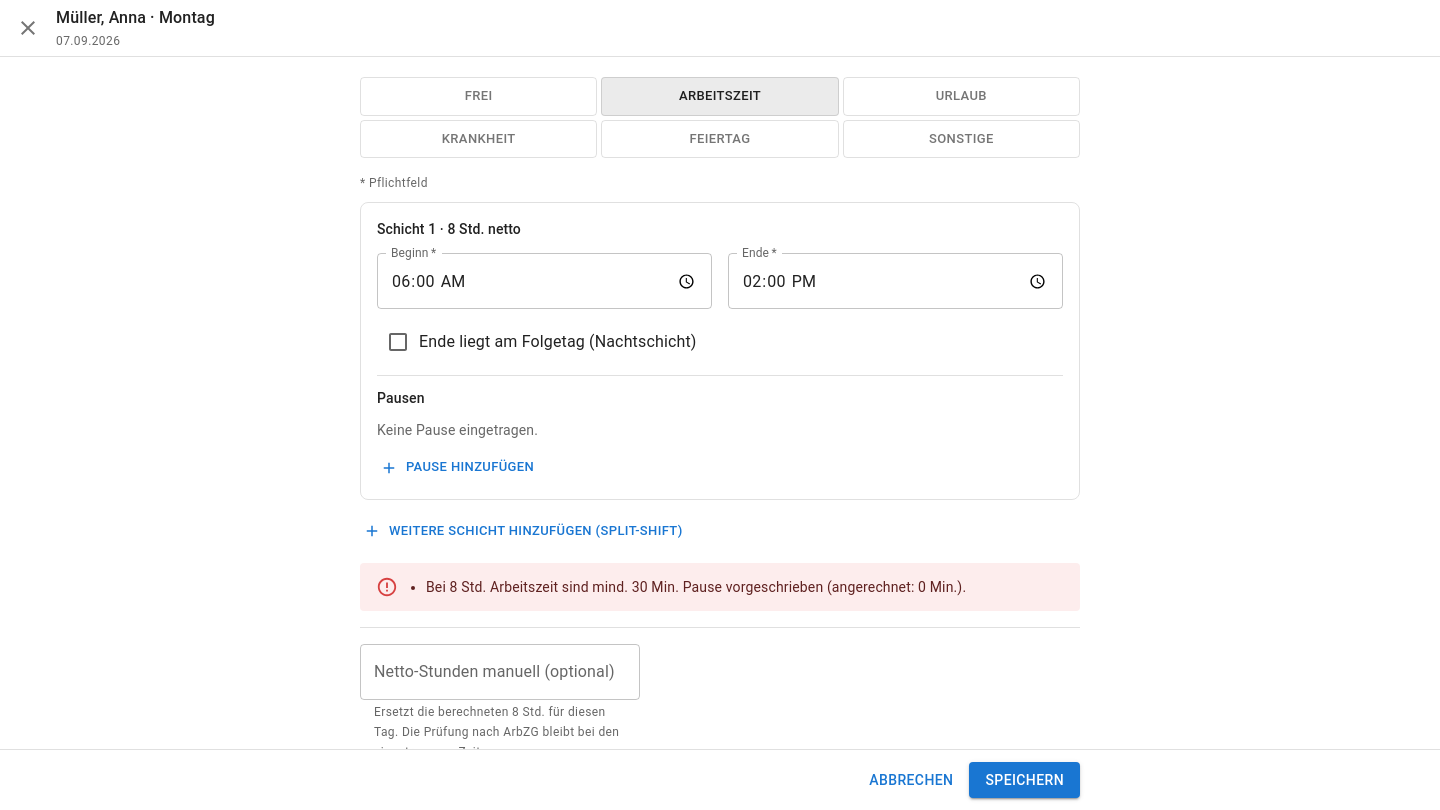
DayEditor › shows ArbZG errors while editing, before Speichern
Replace the text in the time field labelled "Ende *" with "22:00": [896, 281] box [728,253,1063,309]
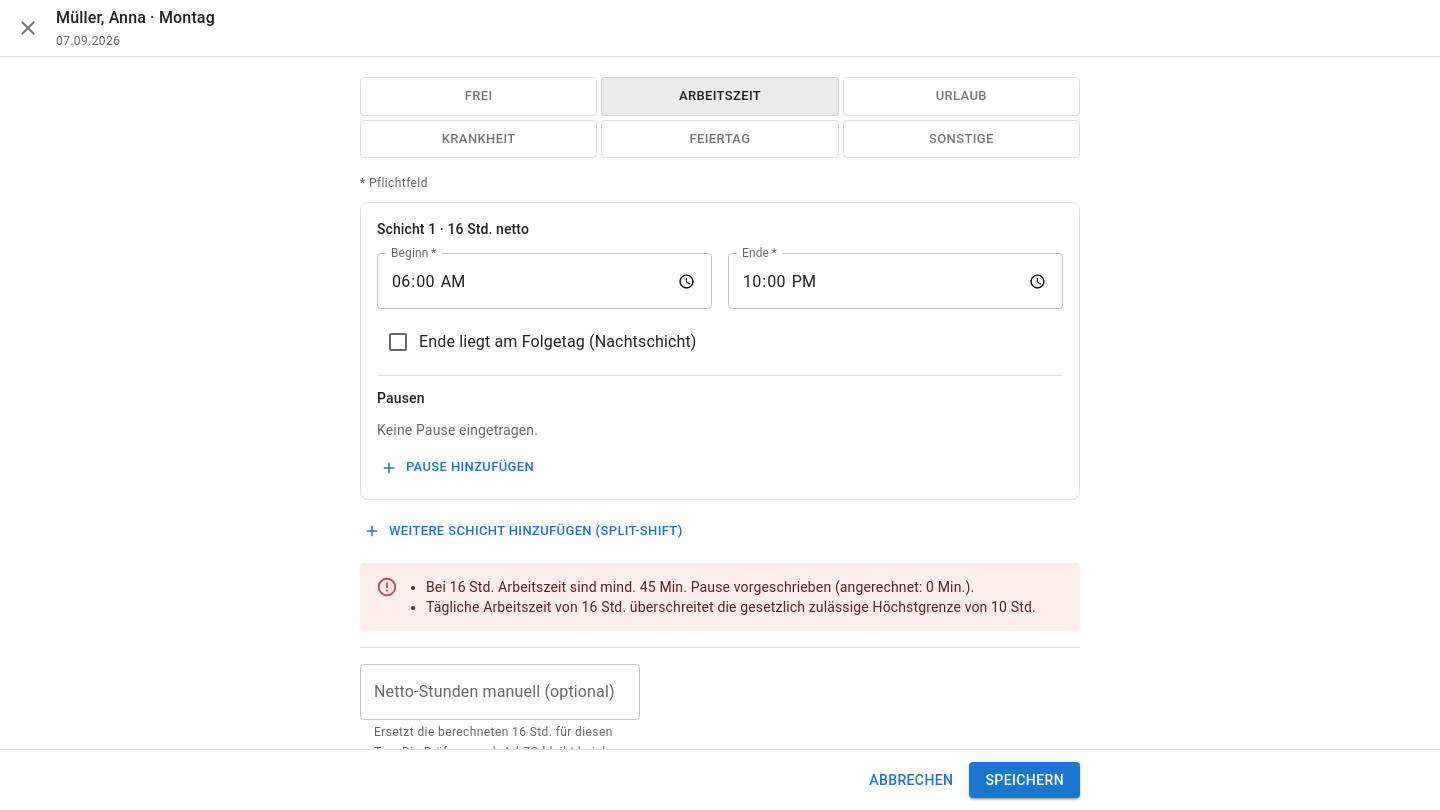
Now the element with test id "arbzg-live" shows "Höchstgrenze von 10 Std", box [426,599,1036,615]
